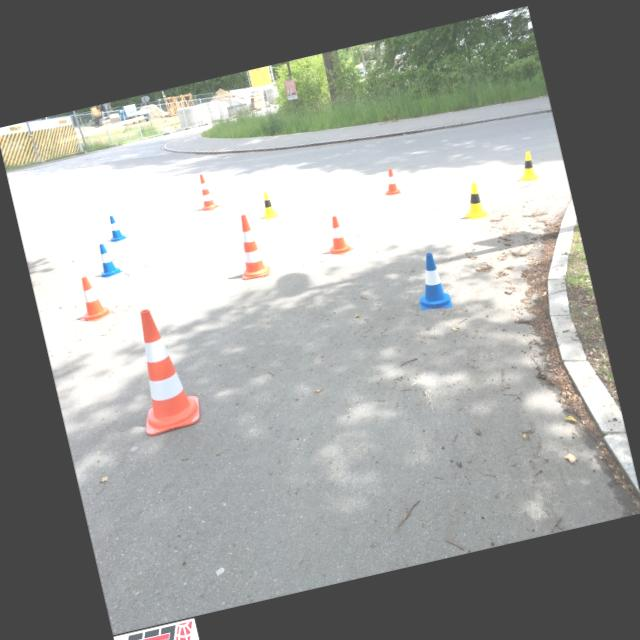blue_cone: (410, 250, 452, 314), (92, 240, 124, 278), (104, 213, 128, 243)
large_orange_cone: (120, 303, 203, 437), (228, 212, 270, 280), (192, 172, 218, 212)
orange_cone: (70, 272, 114, 323), (319, 213, 354, 257), (380, 168, 400, 195)
yellow_cone: (456, 180, 490, 222), (514, 150, 539, 183), (256, 189, 278, 220)
